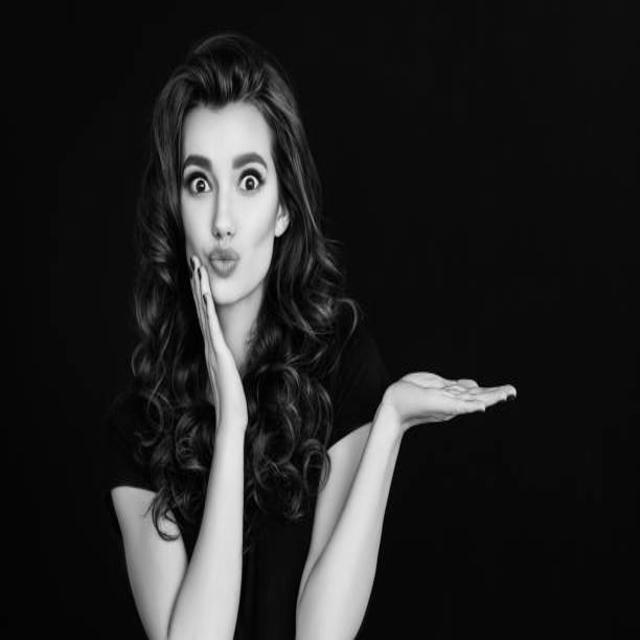Surprised: (179, 102, 279, 305)
